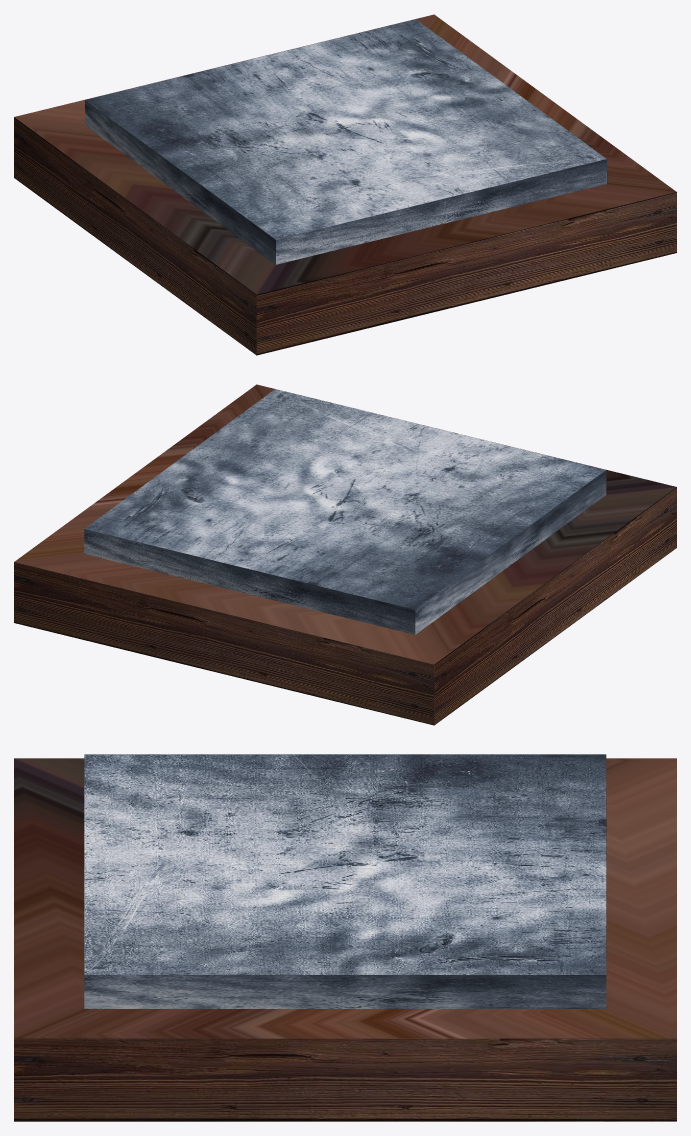
The model's file is PisoRomano.fbx.
3 views of the same model, one above another, from view 1: azimuth 30°, elevation 25°; view 2: azimuth 150°, elevation 25°; view 3: azimuth 270°, elevation 25° (orthographic). The views are drawn at different scales.
Visible parts, largest first — view 1: Hierro, Madera; view 2: Hierro, Madera; view 3: Hierro, Madera.
Part boxes in pixels (<box>): Hierro: <box>85,19,606,264</box>; Madera: <box>14,14,676,355</box>; Hierro: <box>84,389,606,634</box>; Madera: <box>14,384,676,725</box>; Hierro: <box>84,754,606,1008</box>; Madera: <box>14,758,676,1121</box>.
Size of the model in its own units: 200 by 39.07 by 200.
Materials: 2 (2 with a texture image).
